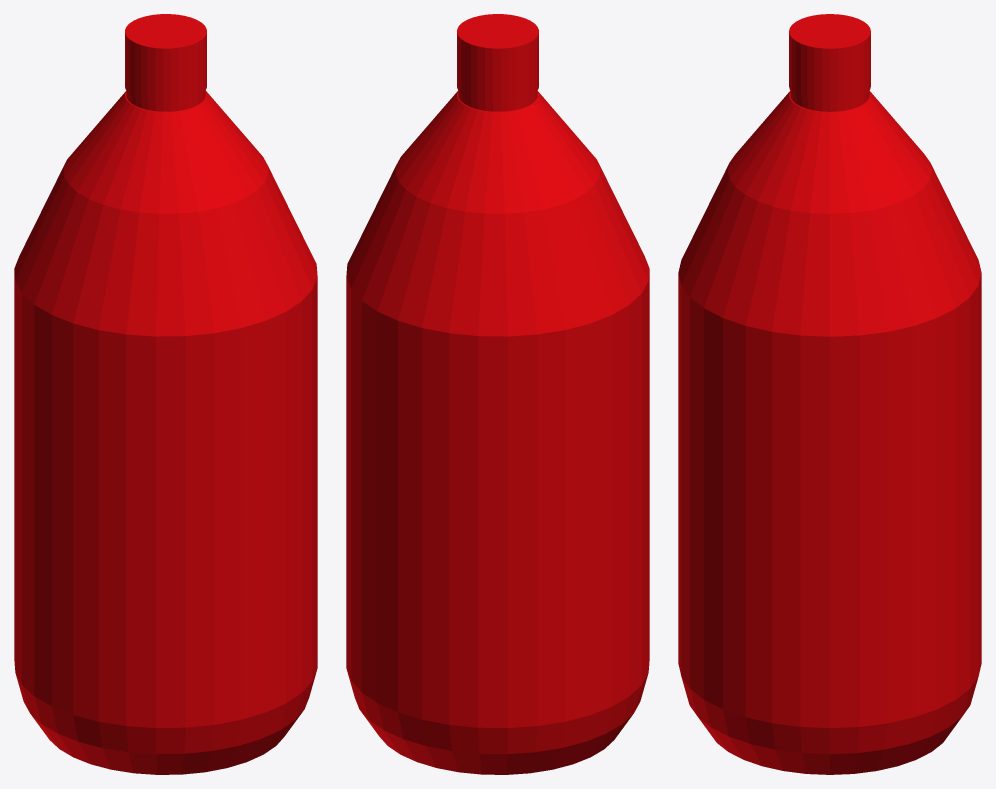
The model's file is Botella.fbx.
The picture shows the model from 3 angles, left to right: view 1: azimuth 30°, elevation 25°; view 2: azimuth 150°, elevation 25°; view 3: azimuth 270°, elevation 25°; orthographic projection.
Visible parts, largest first — view 1: Cylinder.018; view 2: Cylinder.018; view 3: Cylinder.018.
Part boxes in pixels (left/top/right/bottom): Cylinder.018: left=14, top=14, right=317, bottom=774; Cylinder.018: left=346, top=14, right=649, bottom=774; Cylinder.018: left=678, top=14, right=981, bottom=774.
Bounding box in the file's own units: 15.08 × 37.87 × 15.04.
